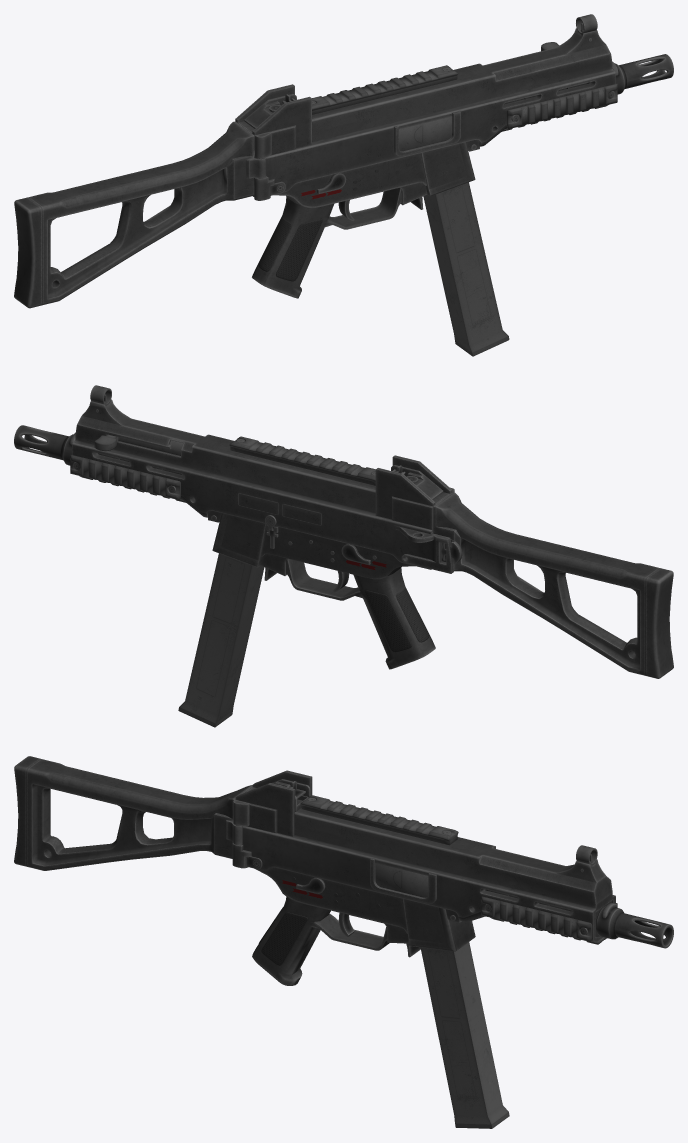
Rendered from ump.glb.
3 renders of one model, top to bottom at view 1: azimuth 30°, elevation 25°; view 2: azimuth 150°, elevation 25°; view 3: azimuth 330°, elevation 25°, orthographic.
Parts seen in each view (by area): view 1: Object_3, Object_2; view 2: Object_3, Object_2; view 3: Object_3, Object_2.
Part boxes in pixels (box(x1,y1,x2,y2)): Object_3: box(14, 14, 673, 356); Object_2: box(235, 28, 615, 298); Object_3: box(14, 385, 673, 727); Object_2: box(72, 399, 453, 669); Object_3: box(14, 756, 673, 1128); Object_2: box(235, 770, 615, 985).
Bounding box in the file's own units: 477 × 214 × 45.28.
Materials: 2 (2 with a texture image).
